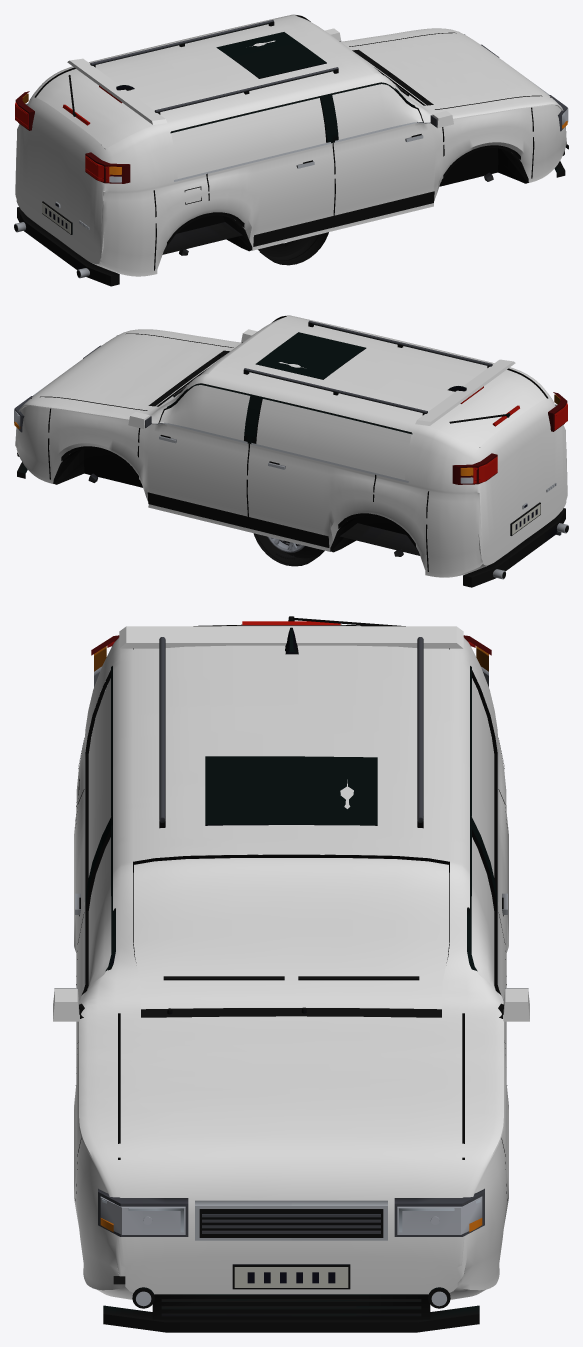
Rendered from suv-hi.glb.
3 views of the same model, one above another, from view 1: azimuth 30°, elevation 25°; view 2: azimuth 150°, elevation 25°; view 3: azimuth 270°, elevation 25° (orthographic). The views are drawn at different scales.
Visible parts, largest first — view 1: paint, detail, glass, wheel; view 2: paint, detail, glass, wheel; view 3: paint, detail, glass.
Part boxes in pixels (x1,y1,x2,y2): paint: (15,14,566,276); detail: (14,15,568,286); glass: (36,17,422,178); wheel: (258,232,328,265); paint: (15,315,567,577); detail: (14,316,568,587); glass: (159,318,546,479); wheel: (253,533,324,566); paint: (53,626,529,1299); detail: (54,616,528,1332); glass: (87,625,495,1008).
Size of the model in its own units: 1.63 by 0.7074 by 0.7029.
